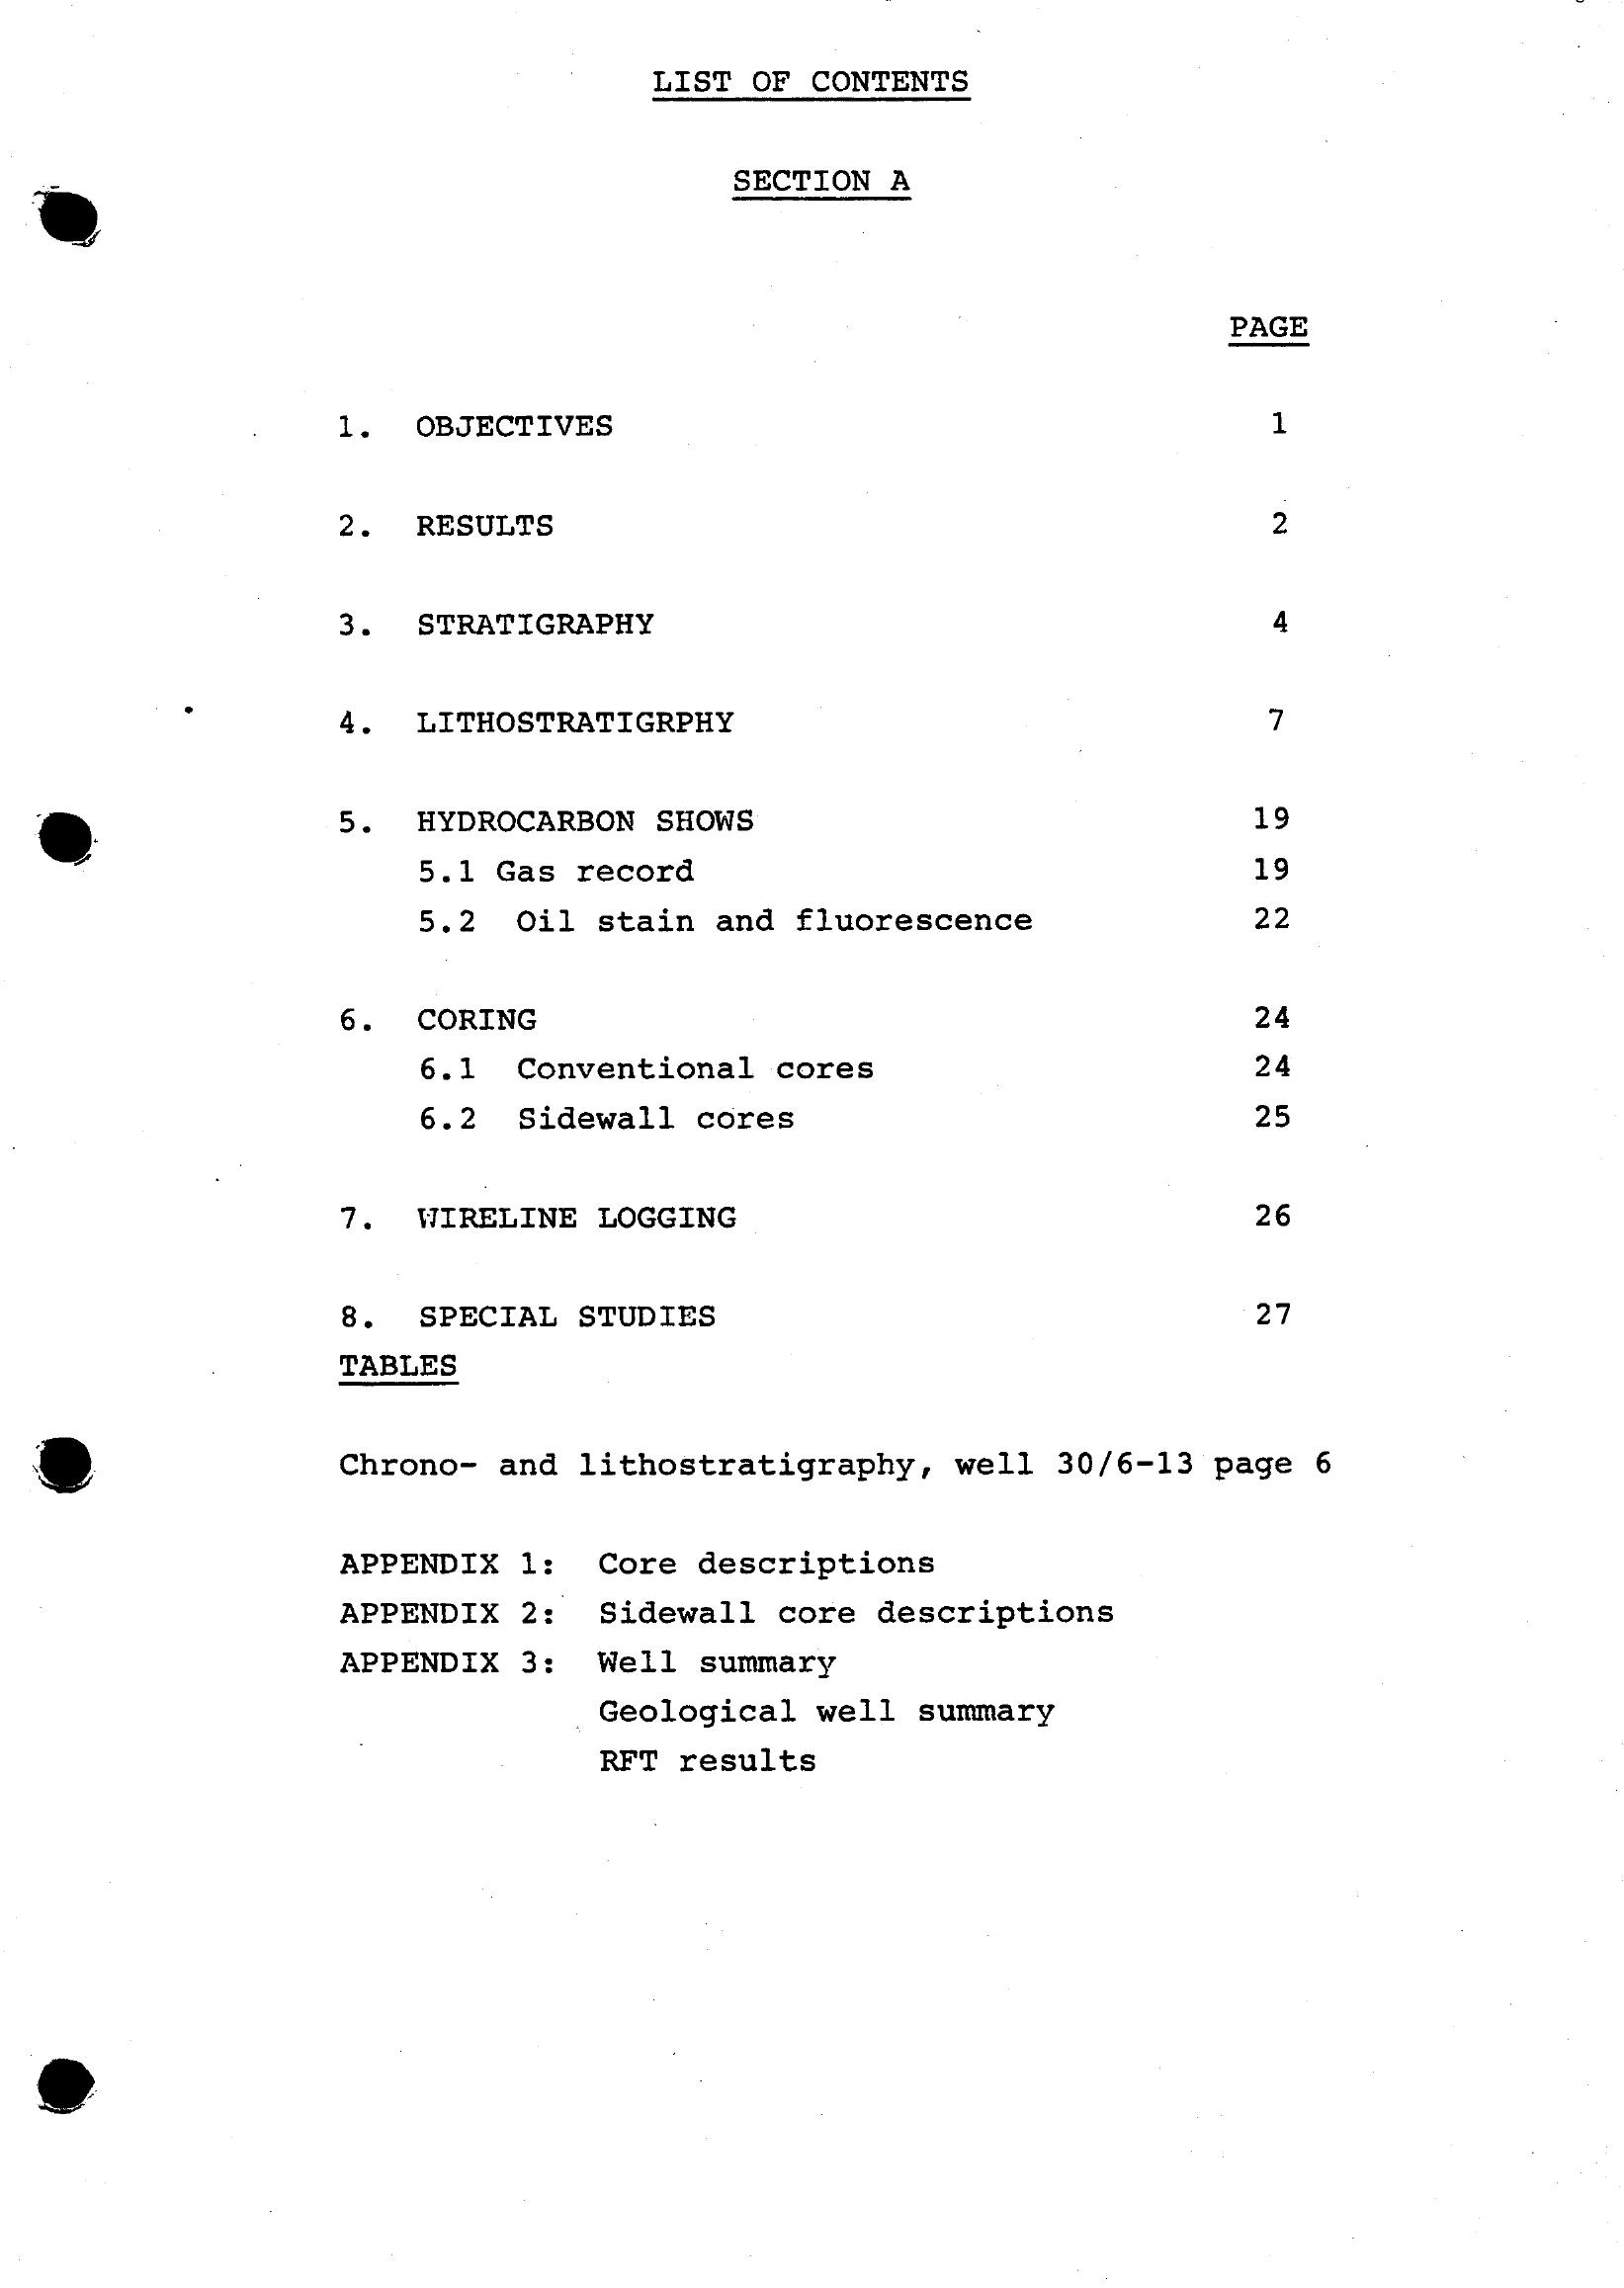text: (295, 39, 1403, 1826)
